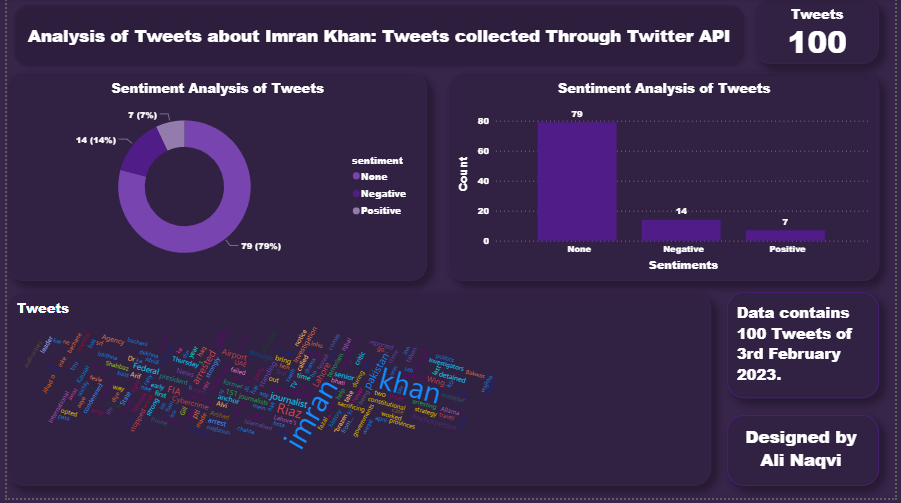

The page's visual inventory and layout, read from the dashboard file:
{"tool":"powerbi","page":{"name":"Page 1","canvas":[1280,720],"ordinal":0},"visuals":[{"type":"WordCloud1447959067750","title":"Tweets","fields":{"Category":["df.text"]},"box":[0,423.4,1013.8,279.4],"z":0},{"type":"donutChart","title":"Sentiment Analysis of Tweets","fields":{"Category":["df1.sentiment"],"Y":["Sum(df1.id)"]},"box":[0,106.6,604.8,301],"z":1},{"type":"clusteredColumnChart","title":"Sentiment Analysis of Tweets","fields":{"Category":["df1.sentiment"],"Y":["Sum(df1.id)"]},"box":[635,106.6,620.6,301],"z":2},{"type":"card","title":"Tweets","fields":{"Values":["CountNonNull(df.id)"]},"box":[1075.7,0,180,95],"z":3},{"type":"shape","box":[0,0,1071.4,106.6],"z":4},{"type":"textbox","box":[1036.8,423.4,218.9,152.6],"z":5},{"type":"textbox","box":[1036.8,600.5,218.9,102.2],"z":6}]}

Visuals, with their boxes in screenshot pixels (x1, y1, x2, y2), scaled from the page's 1280x720 canvas onto the 901x503 screenshot:
"Tweets" WordCloud1447959067750: region(0, 296, 714, 491)
"Sentiment Analysis of Tweets" donutChart: region(0, 74, 426, 285)
"Sentiment Analysis of Tweets" clusteredColumnChart: region(447, 74, 884, 285)
"Tweets" card: region(757, 0, 884, 66)
shape: region(0, 0, 754, 74)
textbox: region(730, 296, 884, 402)
textbox: region(730, 420, 884, 491)
